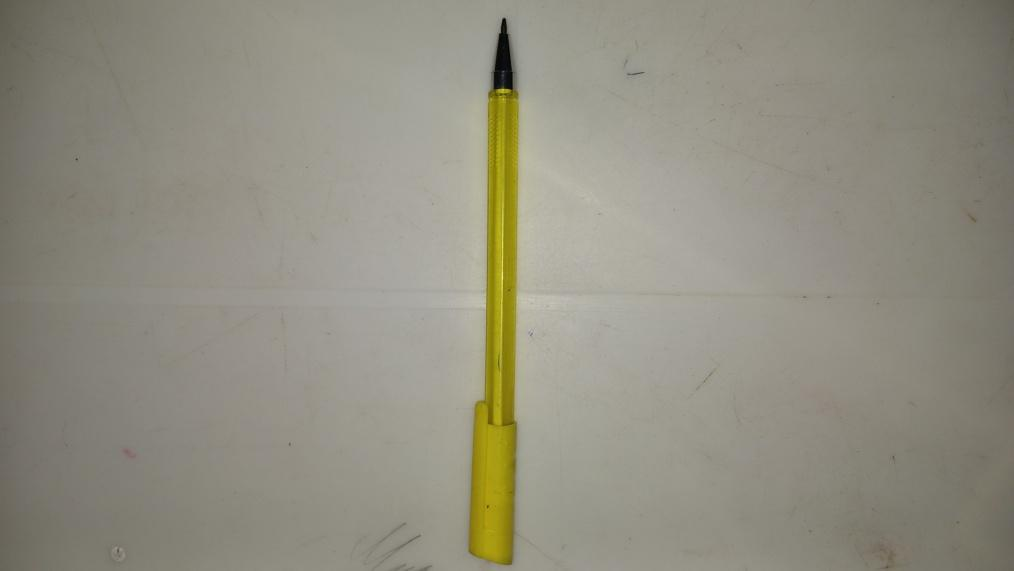pen: (467, 16, 515, 564)
